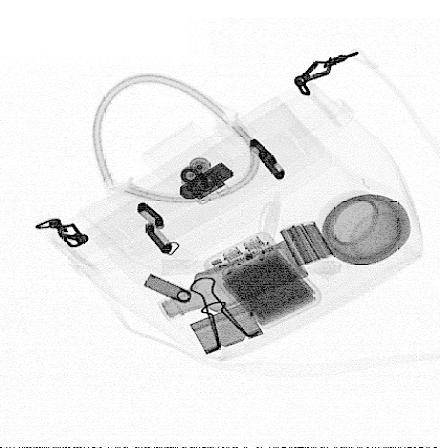Powerbank: (203, 231, 323, 333)
